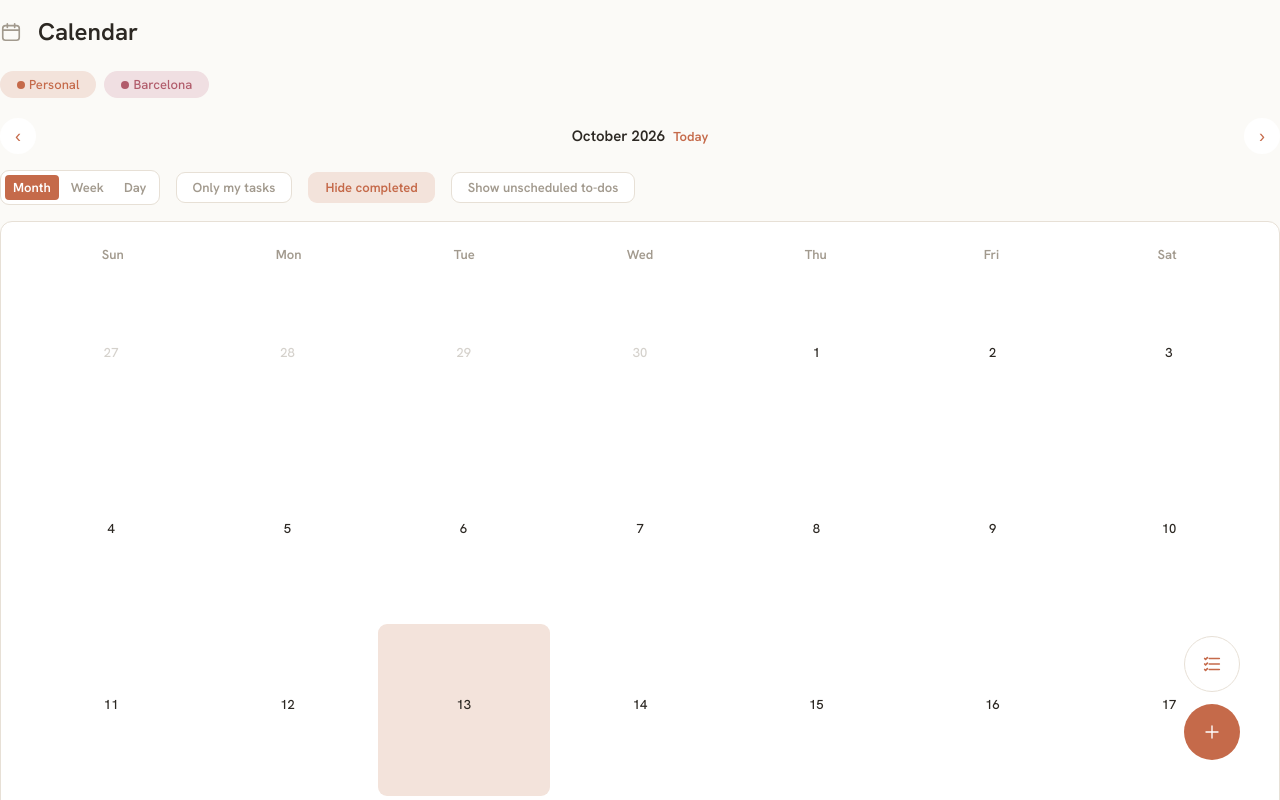
CalendarPage › creating an item › opens a new event from the Add event button
Click the button named "Add event" at (1212, 732), box x1=1184 y1=704 x2=1240 y2=760
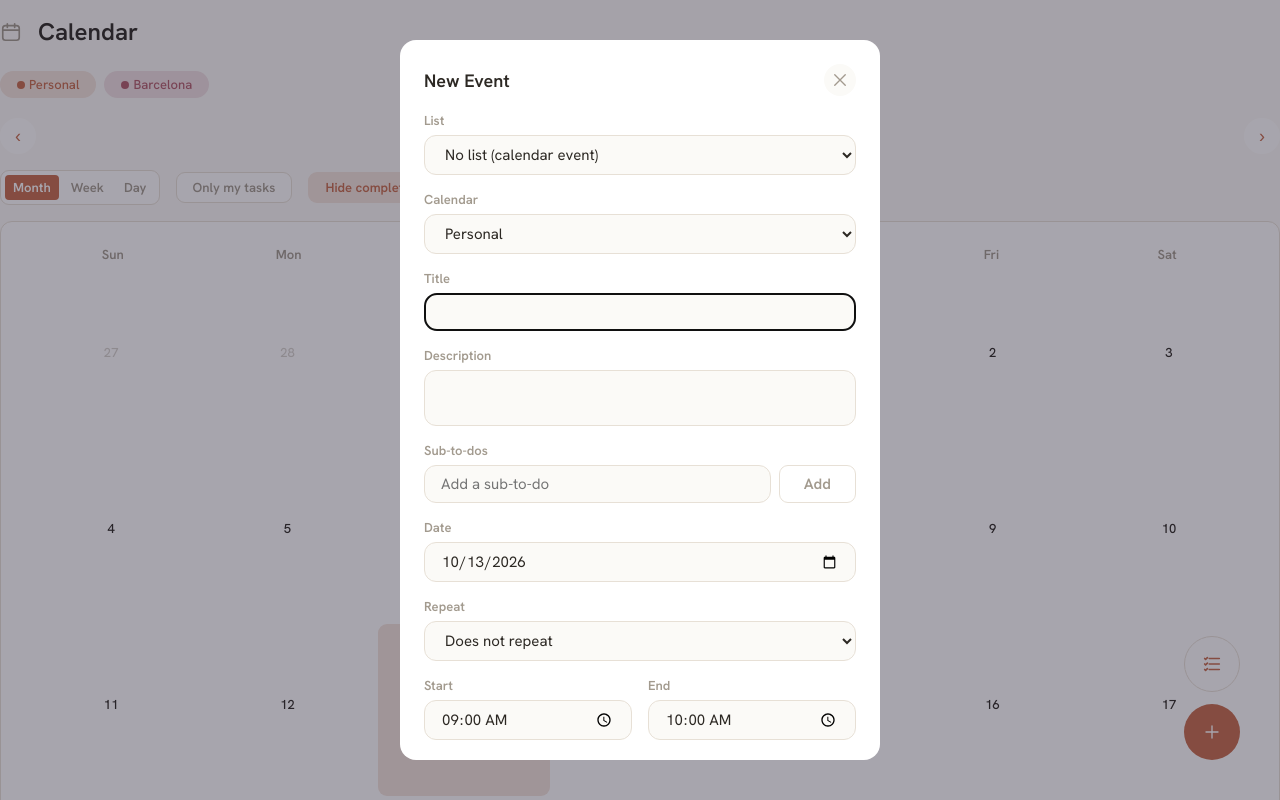
Now the heading "New Event" is shown, box x1=424 y1=68 x2=510 y2=92
